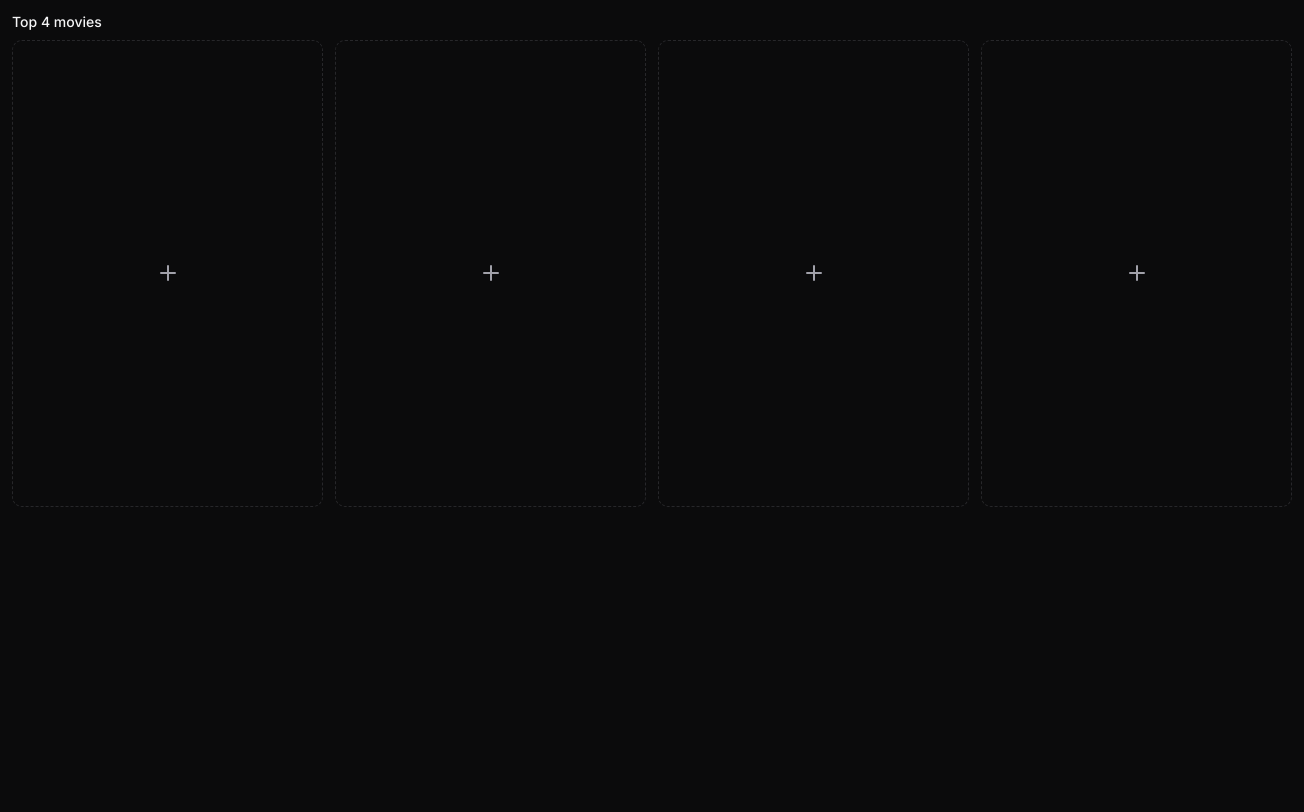
it: ShowcaseEditor › closes and resets the search picker after selecting an item
Click the 1st button named "Add a movie".
click(168, 273)  # box [12,40,323,506]
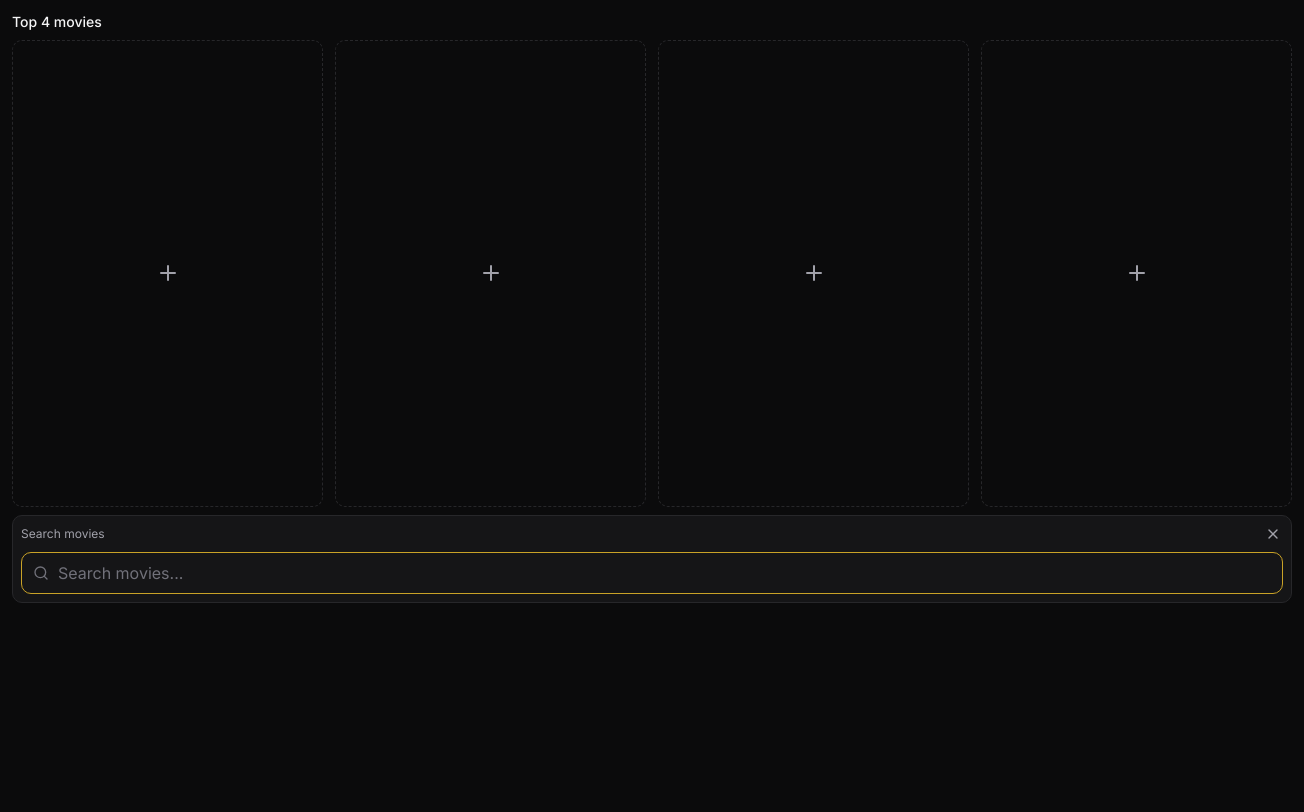
Type "matrix" into the search field labelled "Search".
click(652, 572); type("matrix")  # box [21,552,1283,594]
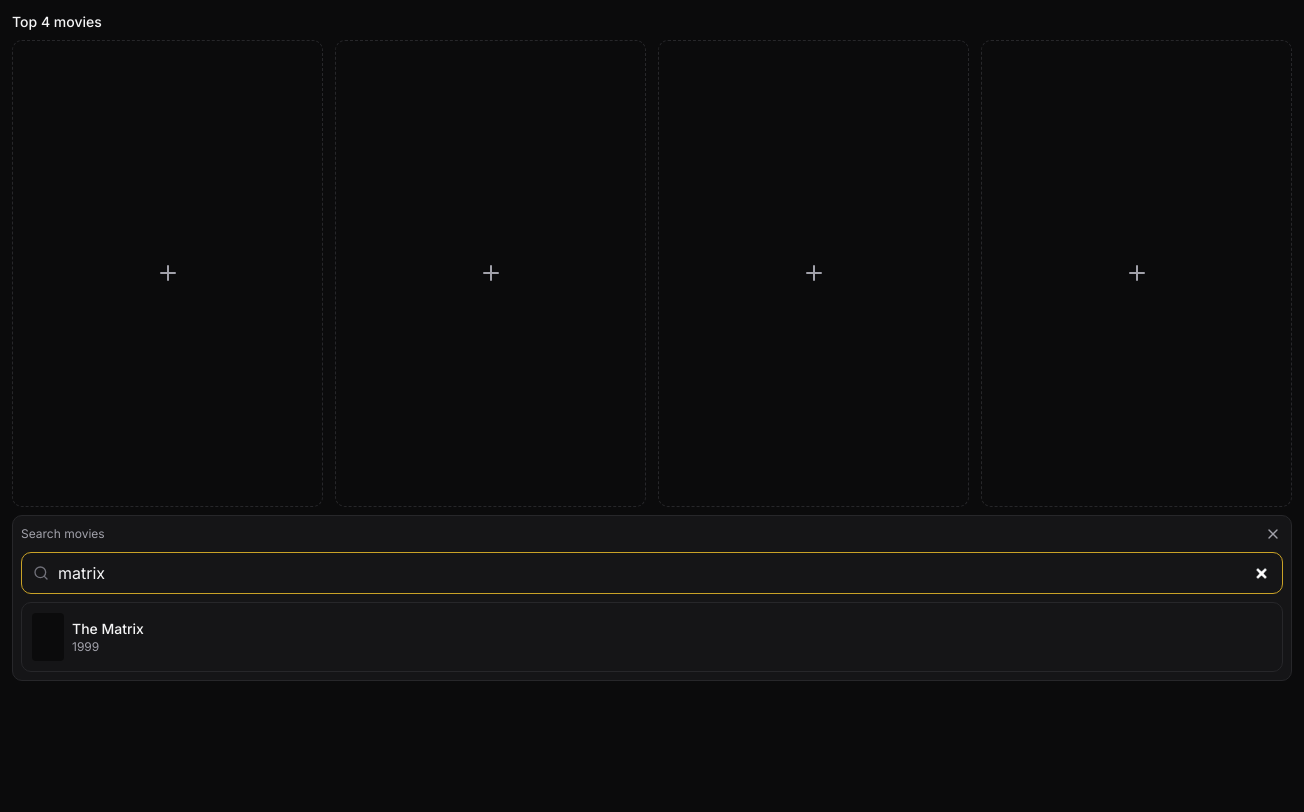
Click the button "The Matrix 1999".
click(48, 636)  # box [26,606,1278,666]
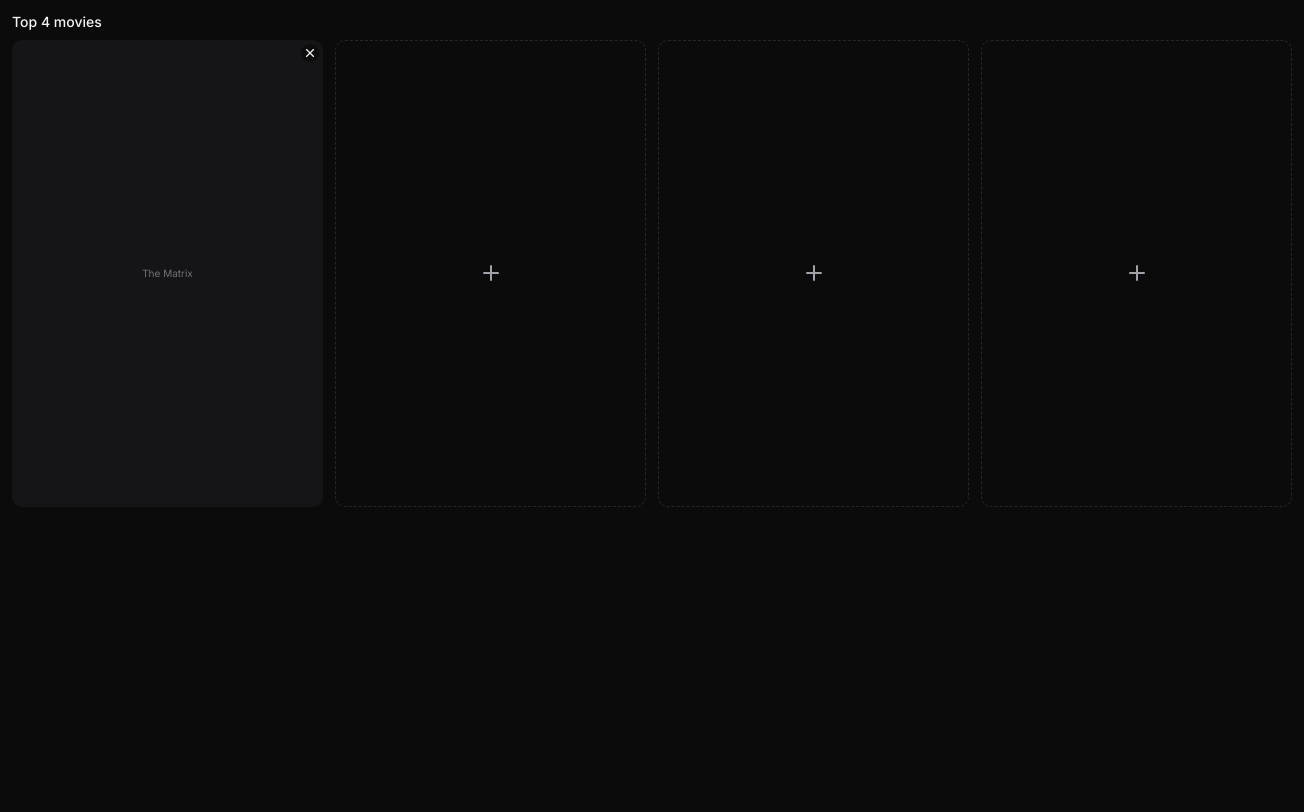
Now the text labelled "Search" is gone
Now the text "Search movies" is gone
